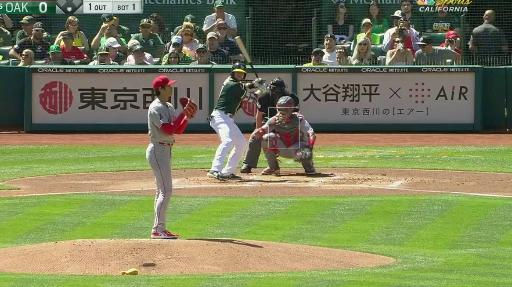pitcher: (147, 76, 198, 239)
